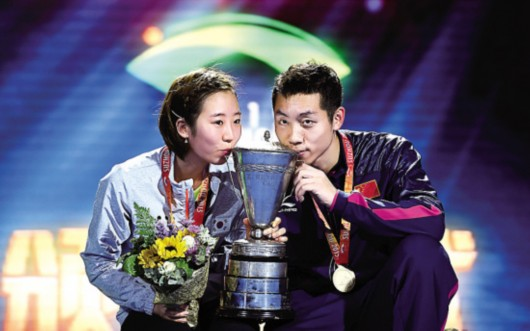face: (192, 94, 242, 164), (274, 94, 325, 161)
